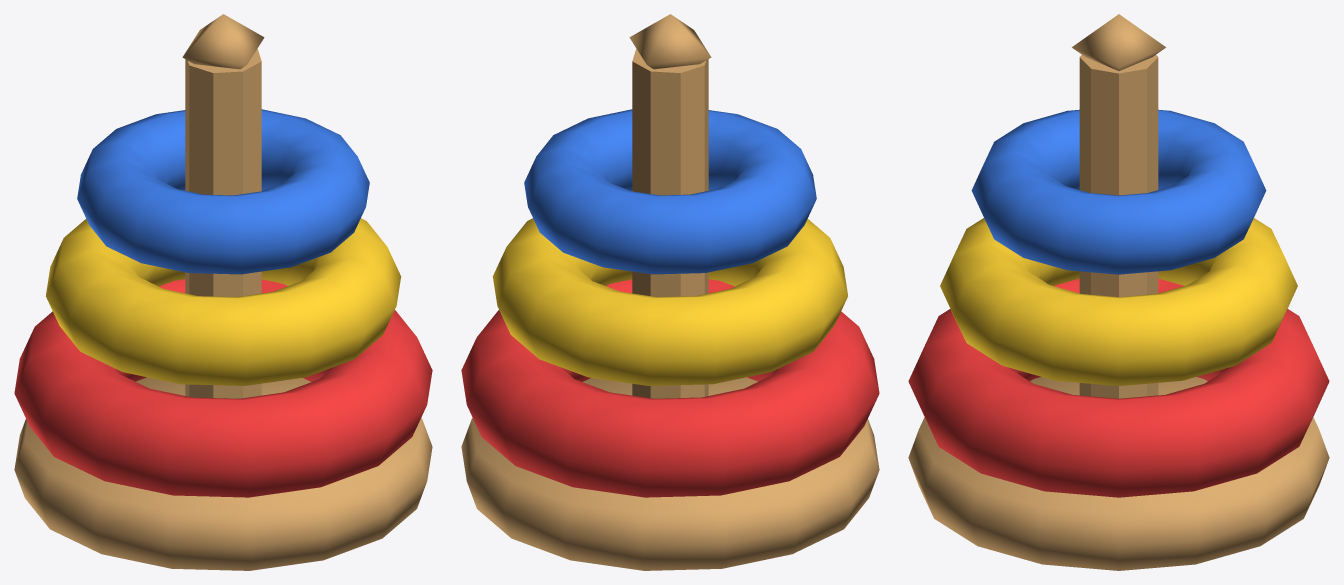
The model's file is StackingRings.fbx.
3 views of the same model, side by side, from view 1: azimuth 30°, elevation 25°; view 2: azimuth 150°, elevation 25°; view 3: azimuth 270°, elevation 25° (orthographic).
Parts seen in each view (by area): view 1: StackingRings; view 2: StackingRings; view 3: StackingRings.
Part boxes in pixels (x1,y1,x2,y2): StackingRings: (14,14,432,570); StackingRings: (461,14,879,570); StackingRings: (908,14,1329,570).
Bounding box in the file's own units: 0.08 × 0.099 × 0.08.
